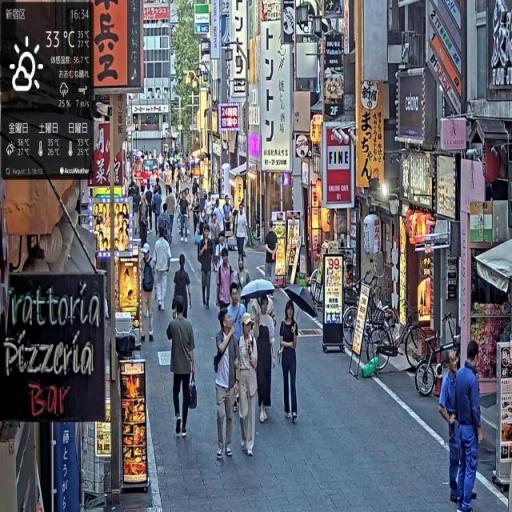person: (455, 341, 485, 511), (168, 294, 199, 442), (213, 311, 240, 465), (440, 349, 464, 508), (236, 310, 261, 460), (255, 295, 277, 423), (226, 284, 247, 415), (280, 300, 301, 425), (139, 241, 157, 346), (154, 223, 173, 317), (199, 223, 217, 312), (172, 253, 194, 322), (235, 203, 251, 274), (165, 185, 177, 243), (153, 187, 163, 237)
